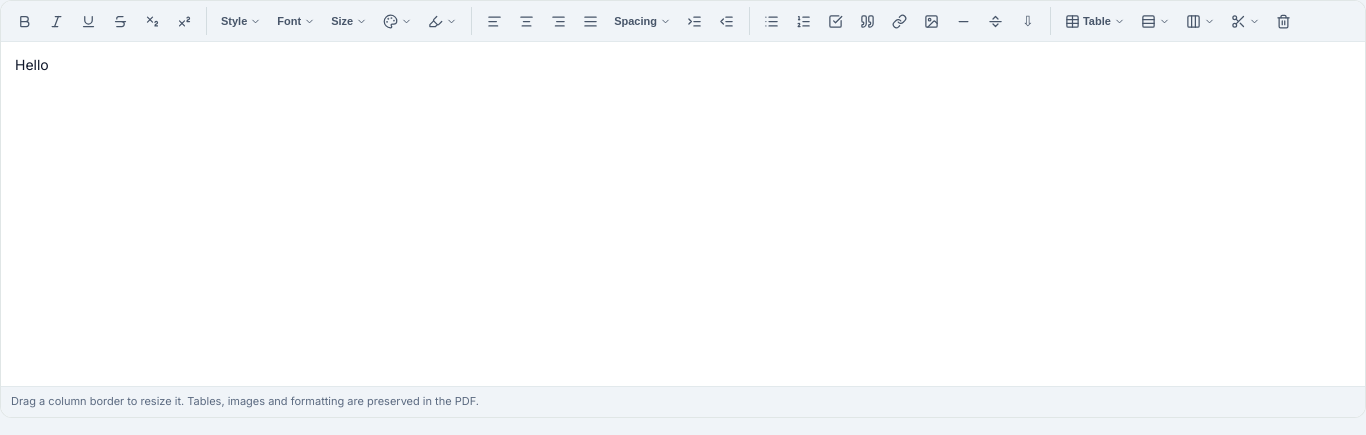
Test: TiptapEditor › offers table presets that match the classes the sanitizer allows
Expected: the element showing "Style Font Size Spacing ⇩ Table" is shown, 1,1 -> 1365,42
Click the button labelled "Table" at {"x": 1095, "y": 21}, box 1058,7 -> 1132,35
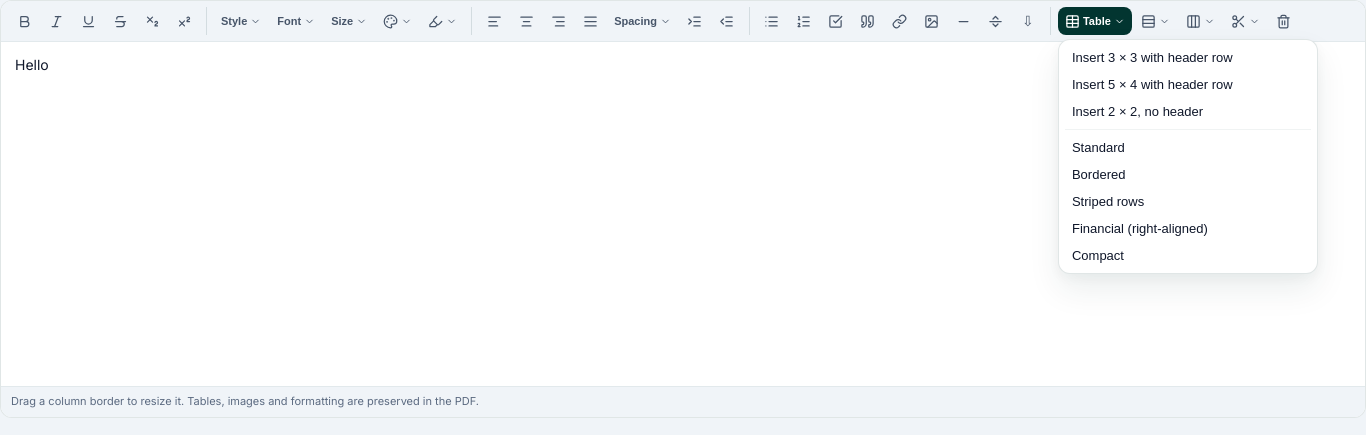
Expected: the menu item "Standard" is shown, 1063,134 -> 1313,161
Expected: the menu item "Bordered" is shown, 1063,161 -> 1313,188
Expected: the menu item "Striped rows" is shown, 1063,188 -> 1313,215
